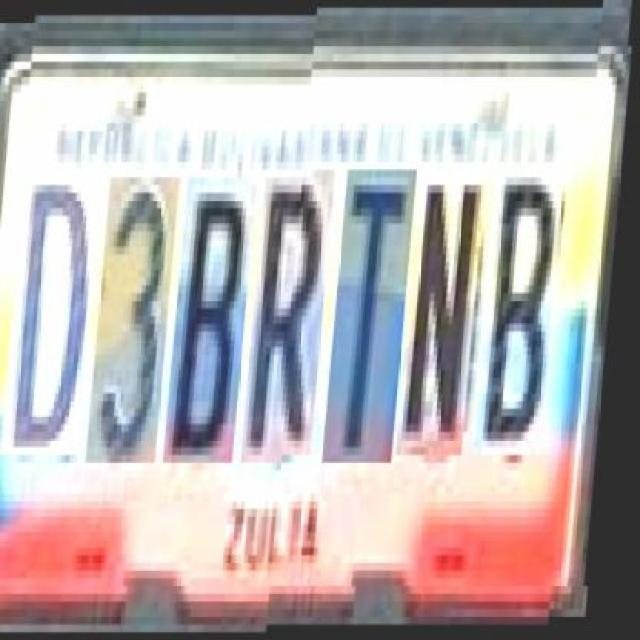3: (94, 170, 184, 456)
b: (172, 170, 260, 456), (482, 170, 566, 456)
d: (9, 169, 106, 448)
n: (405, 170, 489, 456)
r: (250, 170, 338, 456)
t: (330, 169, 421, 463)
